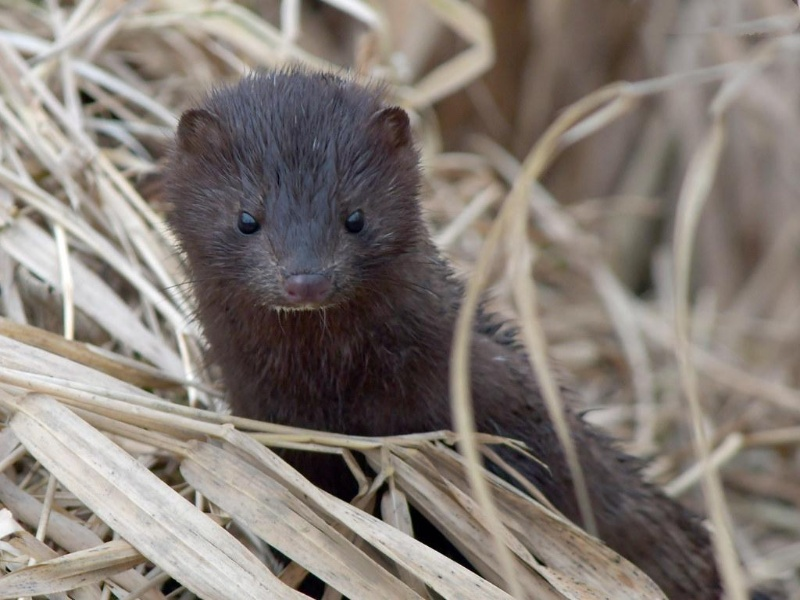minkish: (159, 63, 718, 595)
